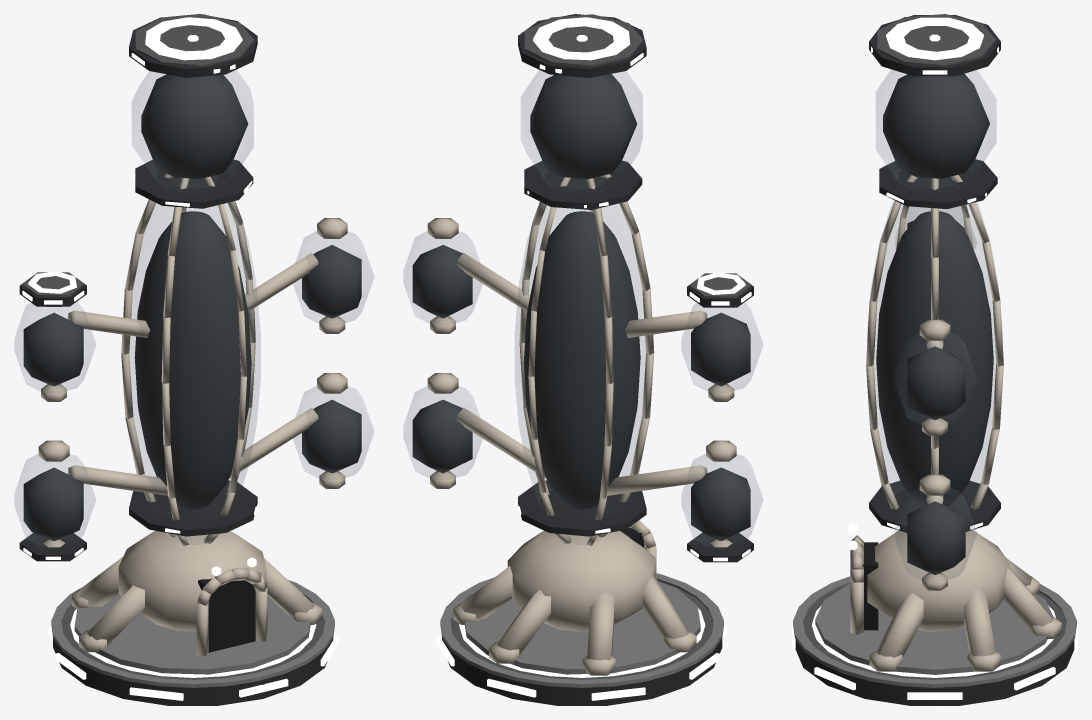
Rendered from Skin_BioPod_T4.glb.
The picture shows the model from 3 angles, left to right: view 1: azimuth 30°, elevation 25°; view 2: azimuth 150°, elevation 25°; view 3: azimuth 270°, elevation 25°; orthographic projection.
Parts seen in each view (by area): view 1: Skin_BioPod_T4; view 2: Skin_BioPod_T4; view 3: Skin_BioPod_T4.
Part boxes in pixels (x1=…): Skin_BioPod_T4: x1=14, y1=14, x2=373, y2=705; Skin_BioPod_T4: x1=403, y1=14, x2=763, y2=705; Skin_BioPod_T4: x1=792, y1=14, x2=1077, y2=705.
Bounding box in the file's own units: 5.92 × 9.86 × 4.18.
